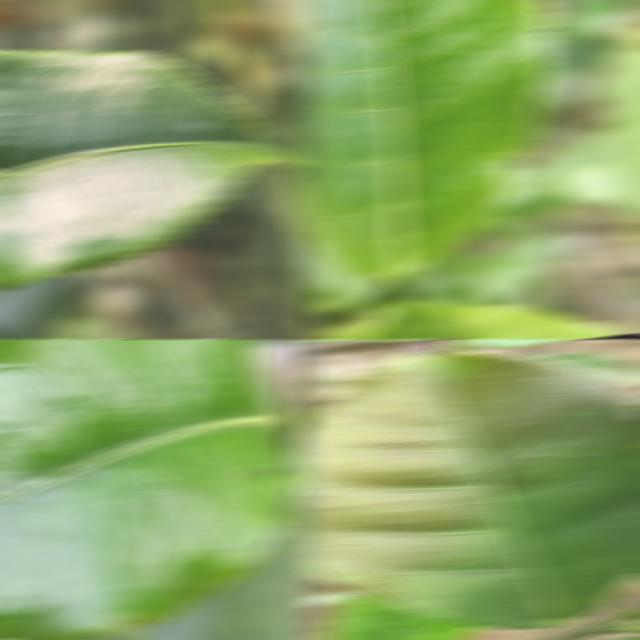Leaf: (301, 339, 640, 629), (0, 339, 304, 640), (0, 50, 303, 290), (301, 0, 556, 278), (596, 48, 640, 224), (324, 594, 481, 640), (364, 301, 479, 339)
